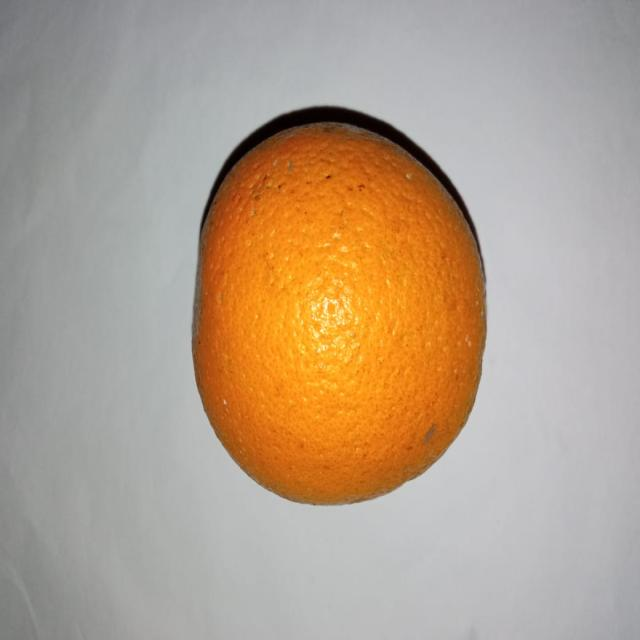fresh_orange: (192, 120, 482, 504)
